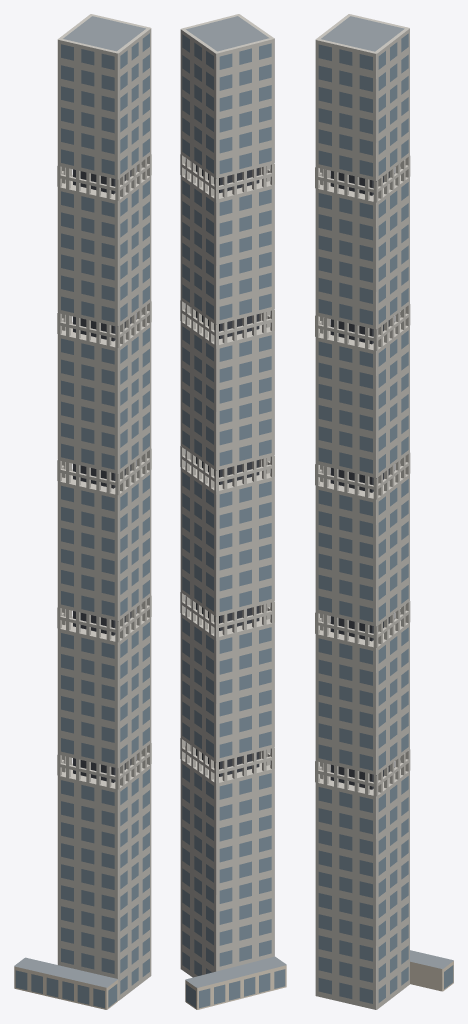
The picture shows the model from 3 angles, left to right: view 1: azimuth 90°, elevation 25°; view 2: azimuth 150°, elevation 25°; view 3: azimuth 270°, elevation 25°; orthographic projection.
Visible parts, largest first — view 1: 432-park-avenue; view 2: 432-park-avenue; view 3: 432-park-avenue.
Part boxes in pixels (box(x1,y1,x2,y2)): 432-park-avenue: box(14, 14, 151, 1009); 432-park-avenue: box(180, 14, 286, 1009); 432-park-avenue: box(315, 14, 453, 1009).
Size of the model in its own units: 46.74 by 426 by 55.99.
